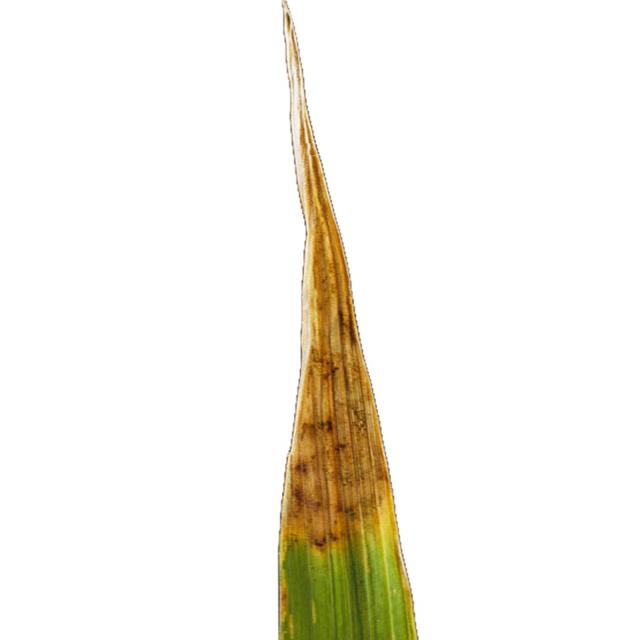Leaf scald: (194, 1, 498, 636)
